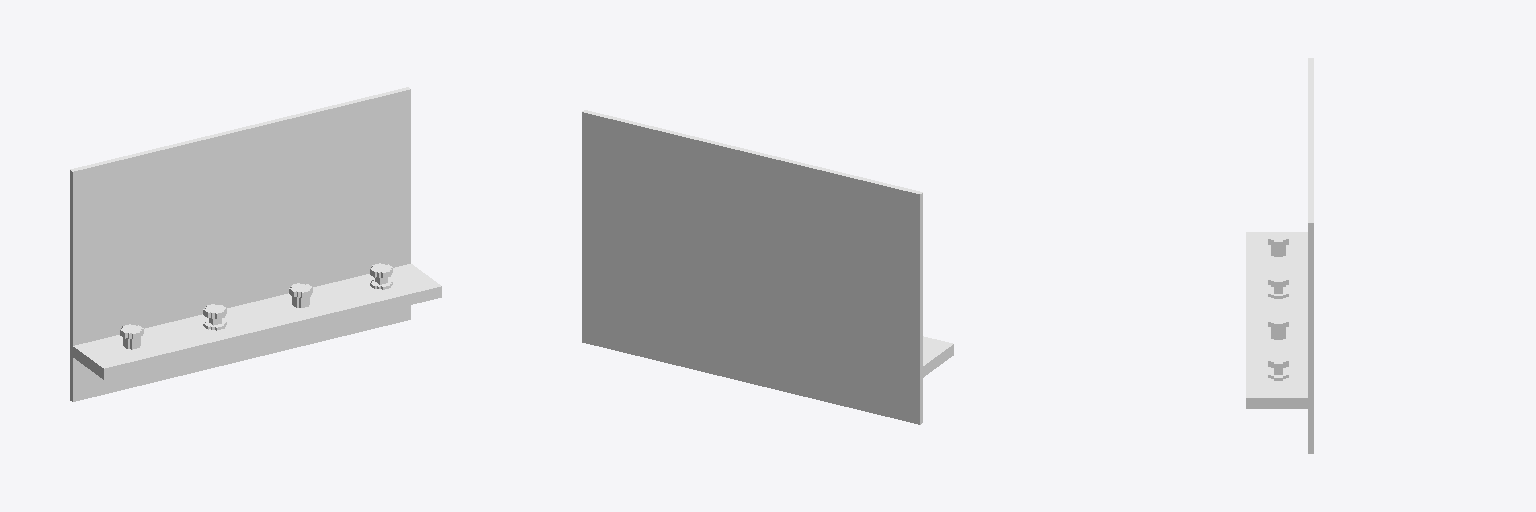
The model's file is chinasence.obj.
The picture shows the model from 3 angles: view 1: azimuth 30°, elevation 25°; view 2: azimuth 150°, elevation 25°; view 3: azimuth 270°, elevation 25°; orthographic projection.
Visible parts, largest first — view 1: chinasence; view 2: chinasence; view 3: chinasence.
Boxes of the visible parts, box(x1,y1,x2,y2) form: chinasence: box(70, 87, 441, 401); chinasence: box(582, 110, 953, 424); chinasence: box(1246, 58, 1313, 453).
Bounding box in the file's own units: 126 × 82 × 22.